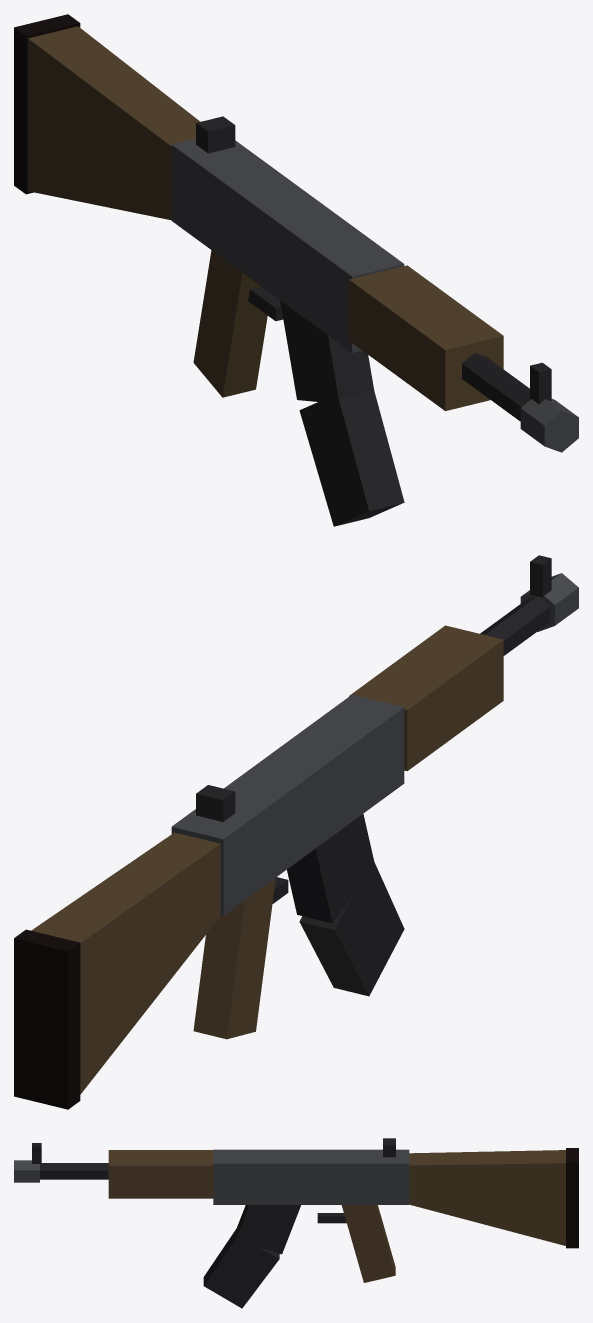
File: kalash_47.glb
3 views of the same model, one above another, from view 1: azimuth 30°, elevation 25°; view 2: azimuth 150°, elevation 25°; view 3: azimuth 270°, elevation 25° (orthographic). The views are drawn at different scales.
Visible parts, largest first — view 1: kalash_47; view 2: kalash_47; view 3: kalash_47.
Boxes of the visible parts, x1=… form: kalash_47: x1=14, y1=14, x2=578, y2=526; kalash_47: x1=14, y1=555, x2=578, y2=1109; kalash_47: x1=14, y1=1138, x2=578, y2=1308.
Size of the model in its own units: 0.056 by 0.274 by 0.865.
